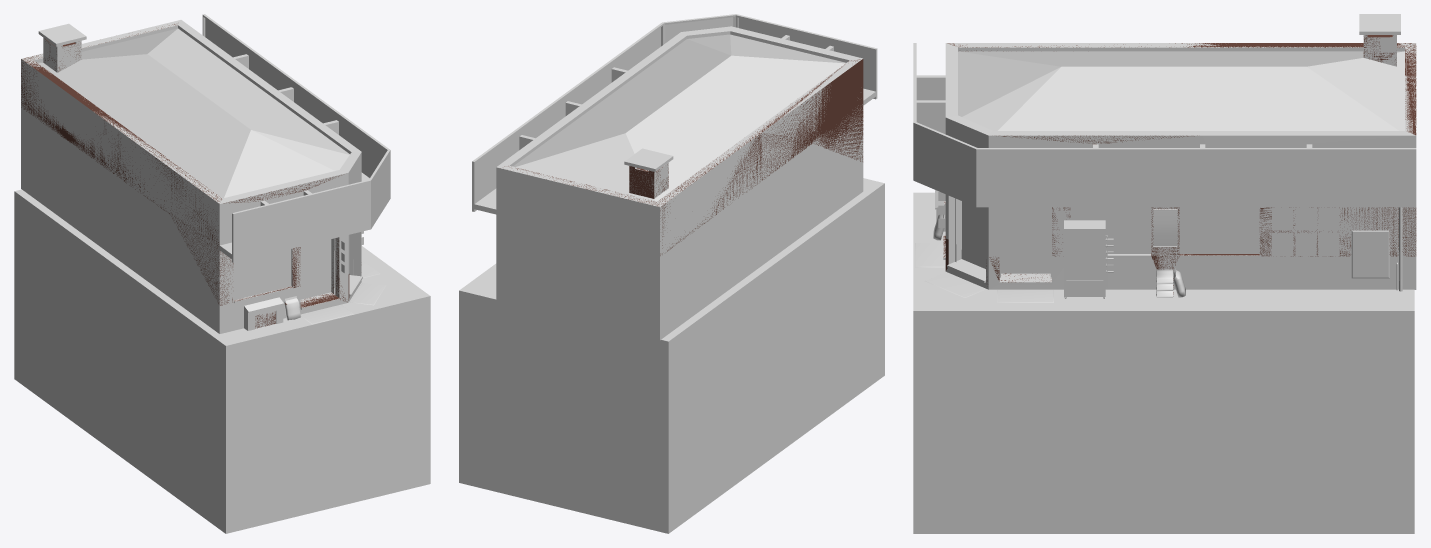
The model's file is CASA20.fbx.
3 renders of one model, left to right at view 1: azimuth 30°, elevation 25°; view 2: azimuth 150°, elevation 25°; view 3: azimuth 270°, elevation 25°, orthographic. The views are drawn at different scales.
Visible parts, largest first — view 1: CUBE_LOD0, Açougue_LOD0, UTM_Açougue; view 2: CUBE_LOD0, Açougue_LOD0, OCC_Oclusion, UTM_Açougue; view 3: CUBE_LOD0, Açougue_LOD0, UTM_Açougue.
Part boxes in pixels (box(x1,y1,x2,y2)): CUBE_LOD0: box(14, 189, 430, 533); Açougue_LOD0: box(21, 14, 390, 333); UTM_Açougue: box(21, 24, 349, 328); CUBE_LOD0: box(459, 178, 884, 533); Açougue_LOD0: box(472, 14, 877, 340); OCC_Oclusion: box(497, 168, 659, 339); UTM_Açougue: box(504, 59, 863, 255); CUBE_LOD0: box(913, 192, 1414, 533); Açougue_LOD0: box(913, 14, 1416, 302); UTM_Açougue: box(943, 35, 1416, 294).
Size of what is drawn, in the model's own units: 865 by 1406 by 1554.
